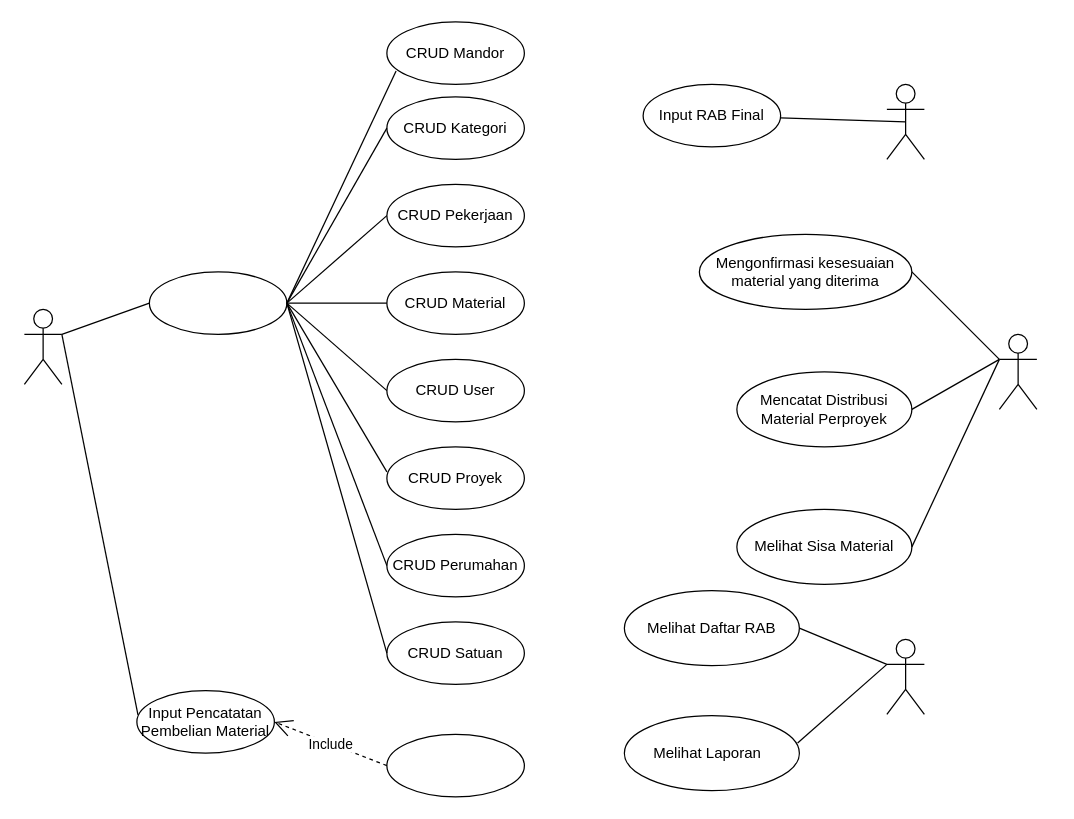
The diagram is 1074 pixels wide and 819 high, and some of its shapes have lost their labels. Each missing label, with the centre of its shape:
Admin: (x=42, y=346)
Direktur: (x=905, y=676)
Divisi Teknik: (x=905, y=121)
Mastering: (x=217, y=302)
PJ Proyek: (x=1017, y=371)
Uploud Bukti/ Nota Pembelian: (x=455, y=765)
